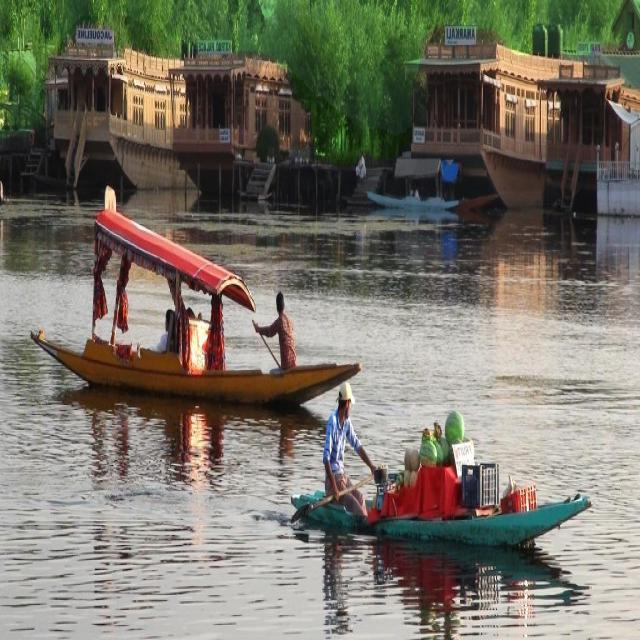boat: (280, 458, 596, 549), (17, 330, 363, 404), (362, 188, 459, 218)
